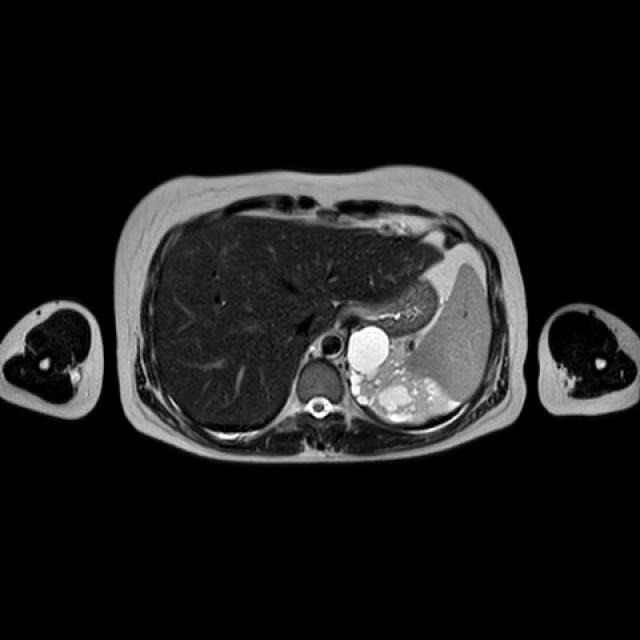sol: (346, 324, 443, 422)
